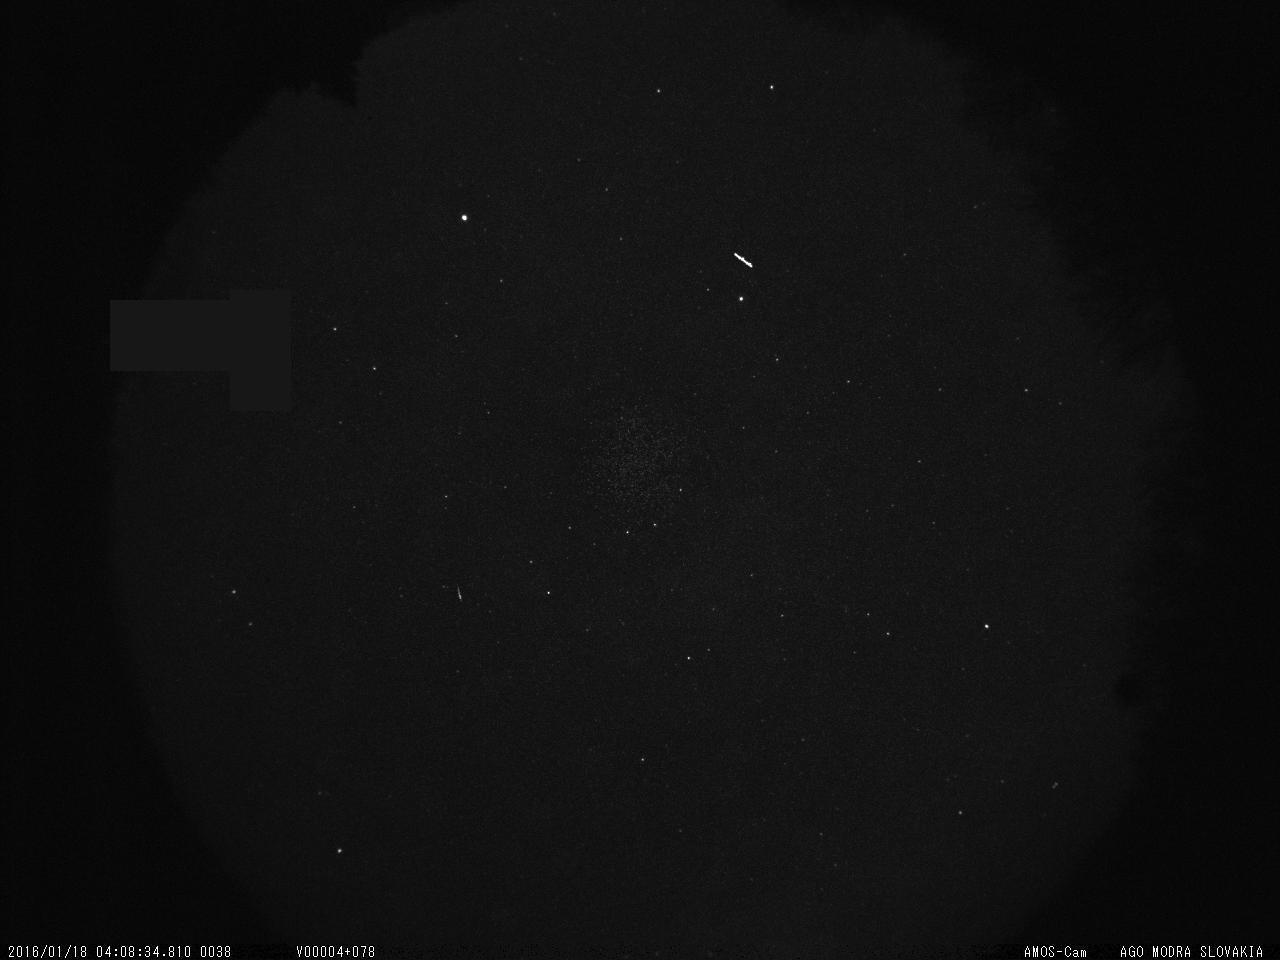satelite: (731, 245, 759, 275)
